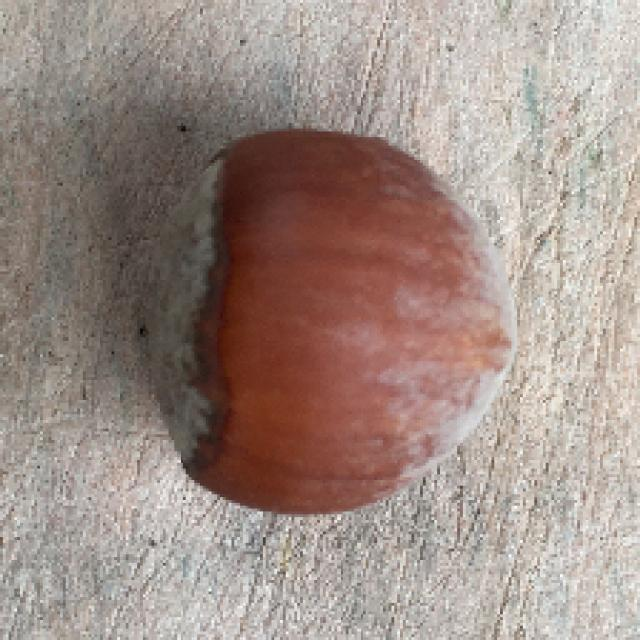QualityHazelnut: (133, 129, 518, 516)
